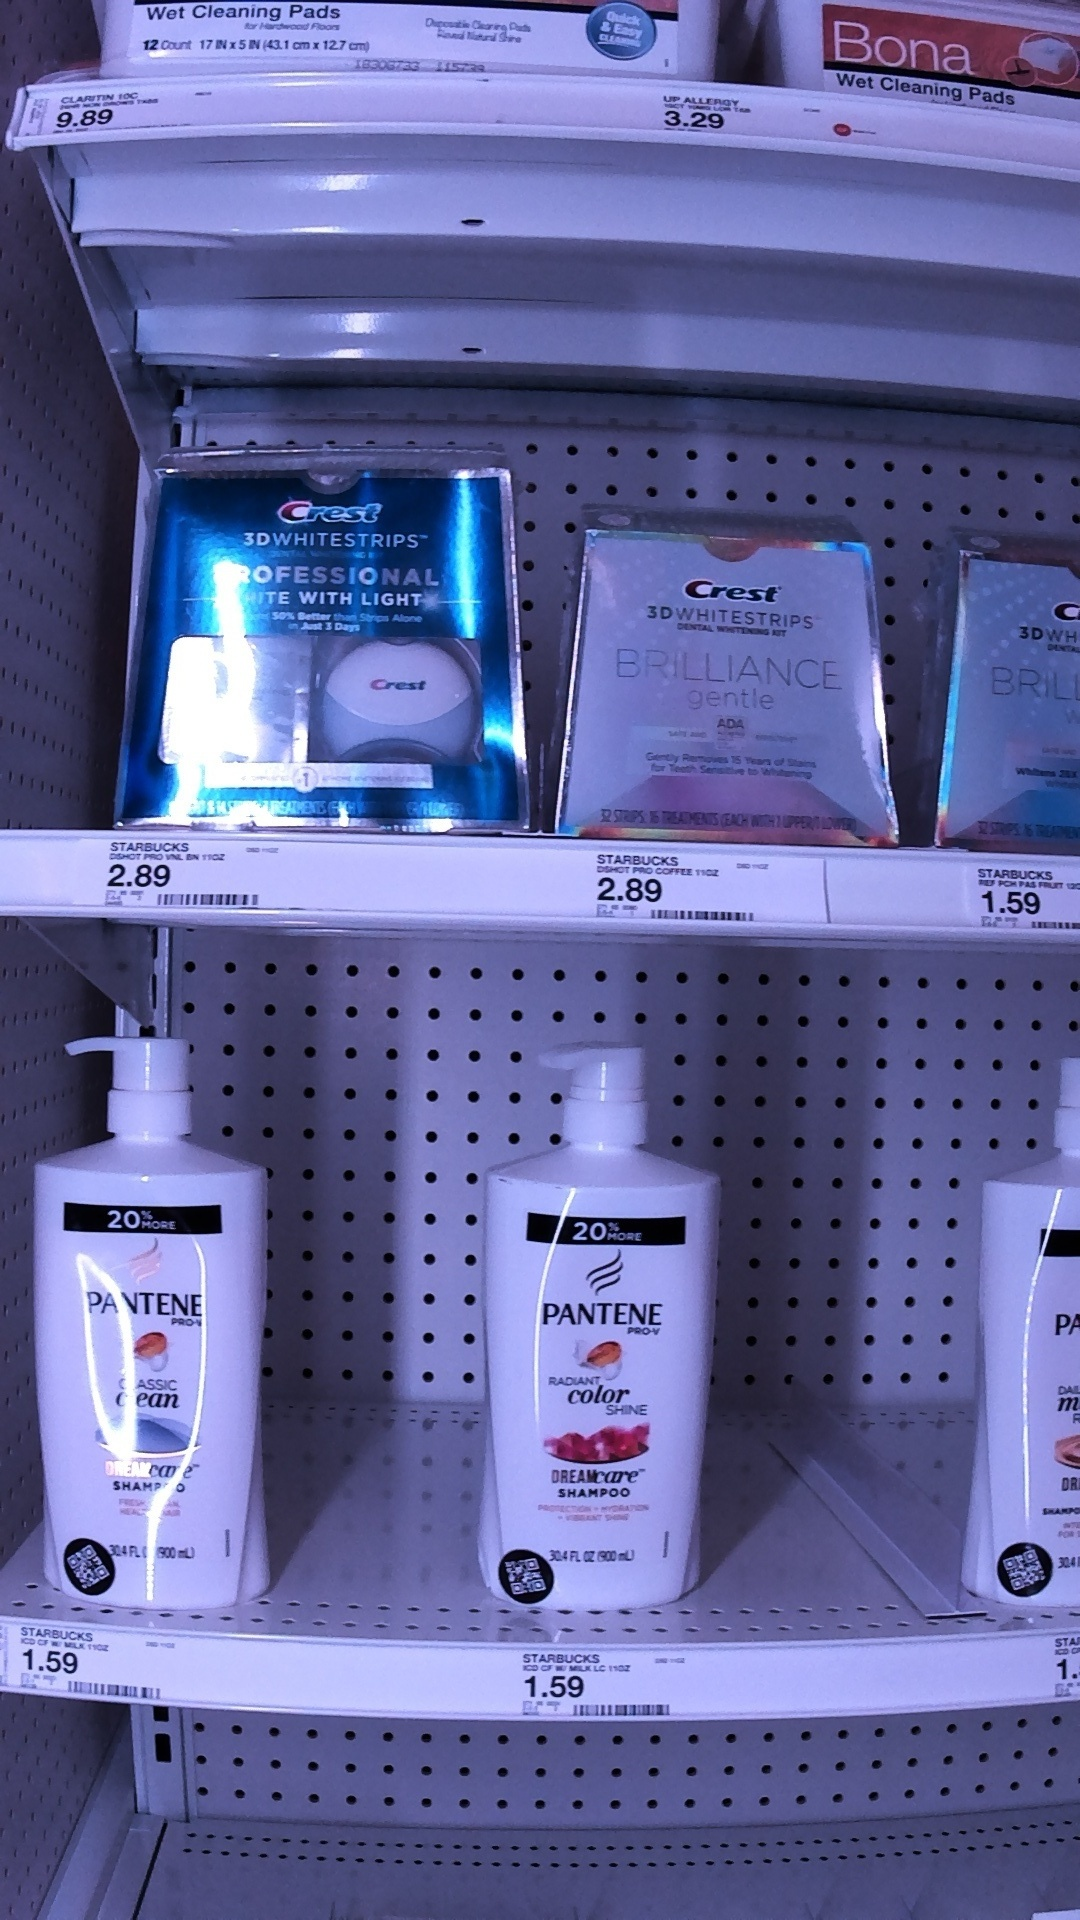ptag: (578, 840, 791, 934), (94, 831, 295, 928), (9, 1619, 185, 1712), (516, 1644, 694, 1722), (11, 73, 179, 146), (957, 849, 1080, 942), (638, 76, 774, 146), (512, 1642, 516, 1644)
